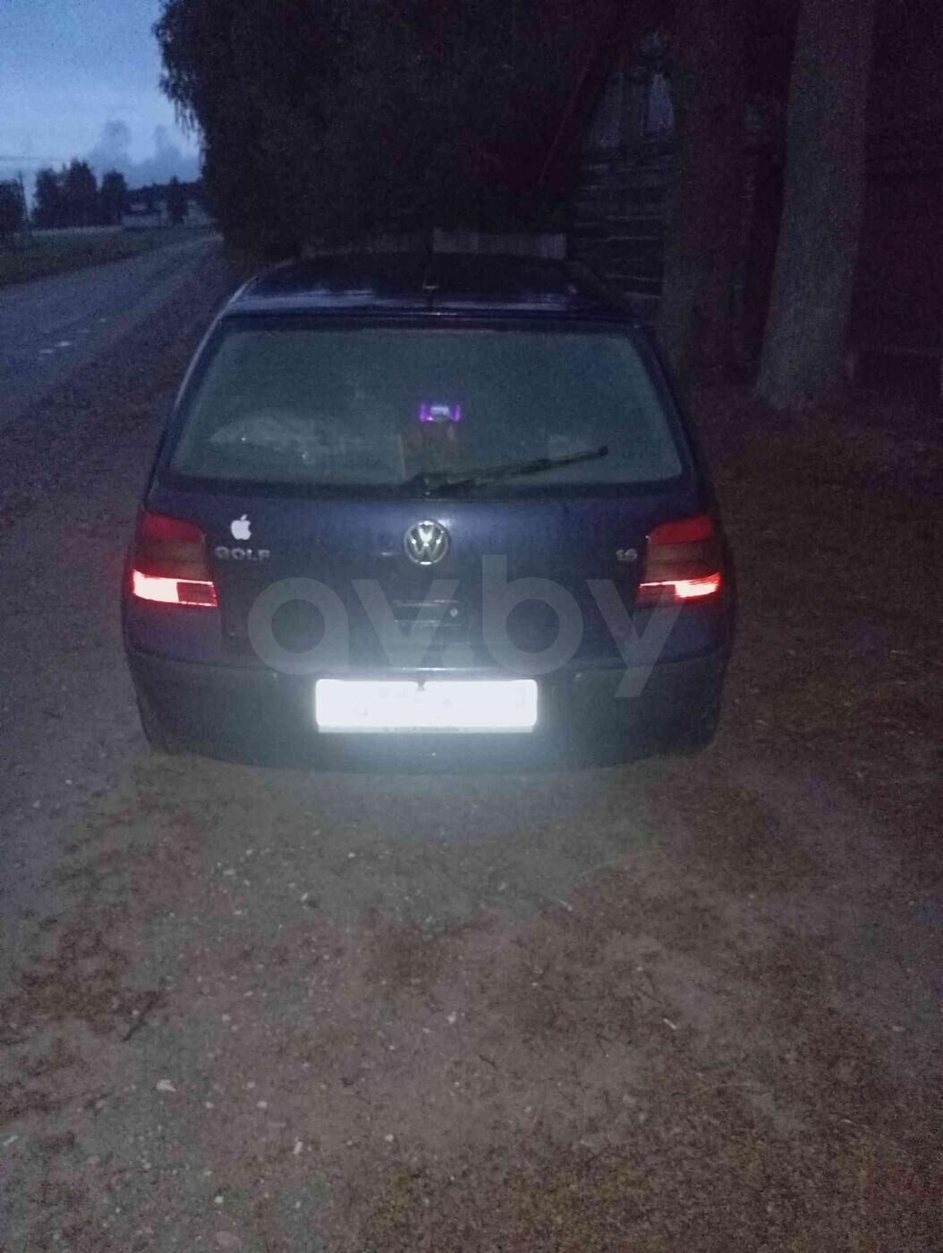Golf_1997-2006: (89, 220, 764, 800)
